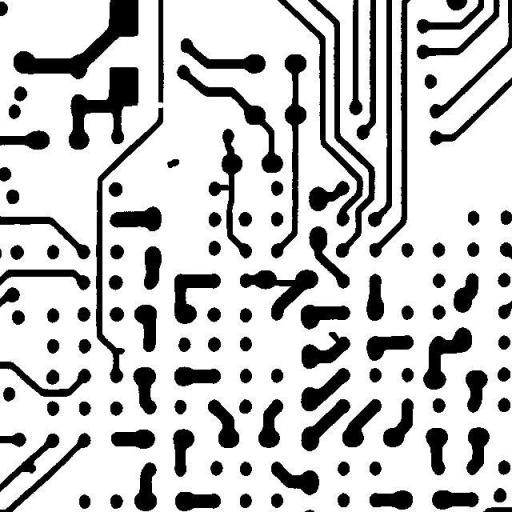copper: (160, 151, 186, 175)
open: (148, 94, 170, 116)
short: (262, 272, 306, 294), (208, 176, 238, 198)
spur: (10, 452, 43, 481), (321, 324, 348, 350), (105, 340, 132, 362)
